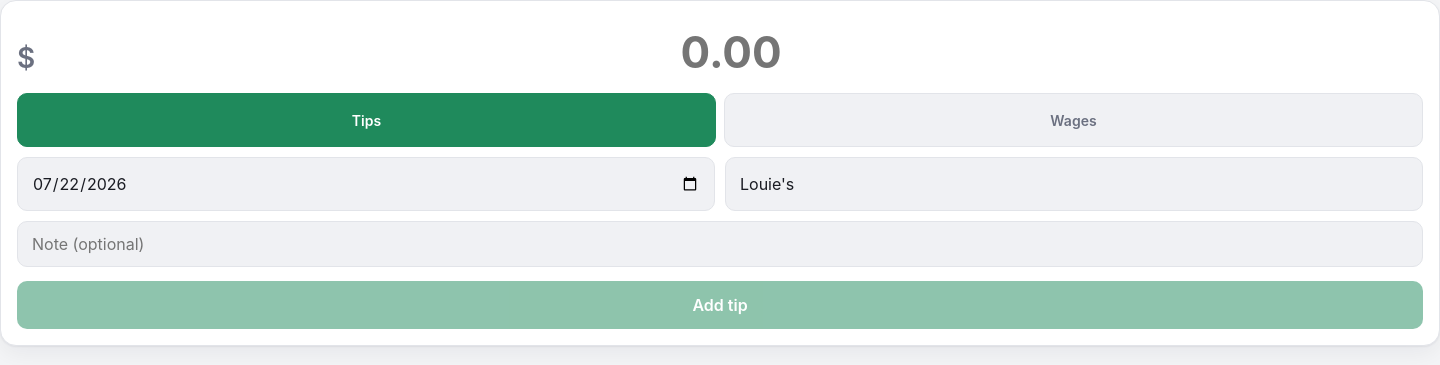
TipForm › non-verbose mode (the app owner's unchanged experience) › disables submit until date, amount, and source are all present
The width and height of the screenshot is (1440, 365).
Expected: the button "Add tip" is disabled, left=17, top=281, right=1423, bottom=329
Type "25" into the number field with placeholder "0.00" at (731, 52), box left=39, top=25, right=1423, bottom=79
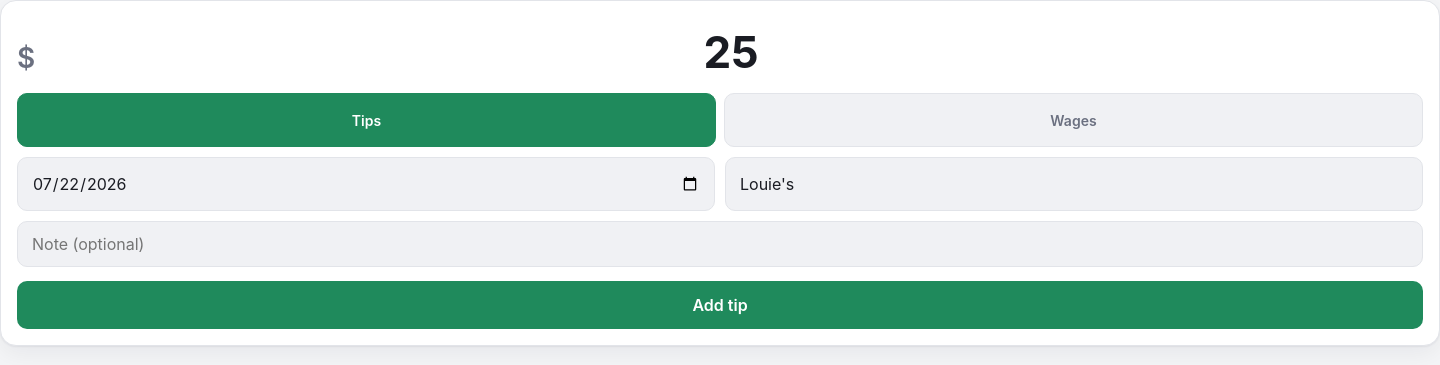
Expected: the button "Add tip" is enabled, left=17, top=281, right=1423, bottom=329
